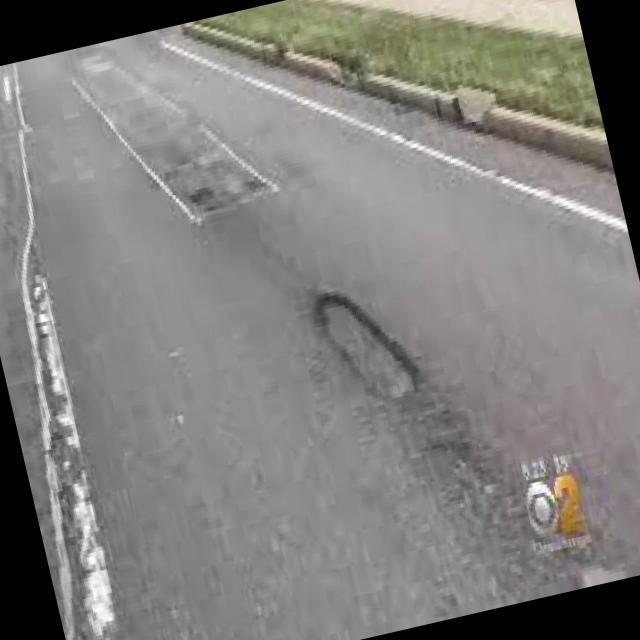Pothole: (311, 290, 421, 403)
